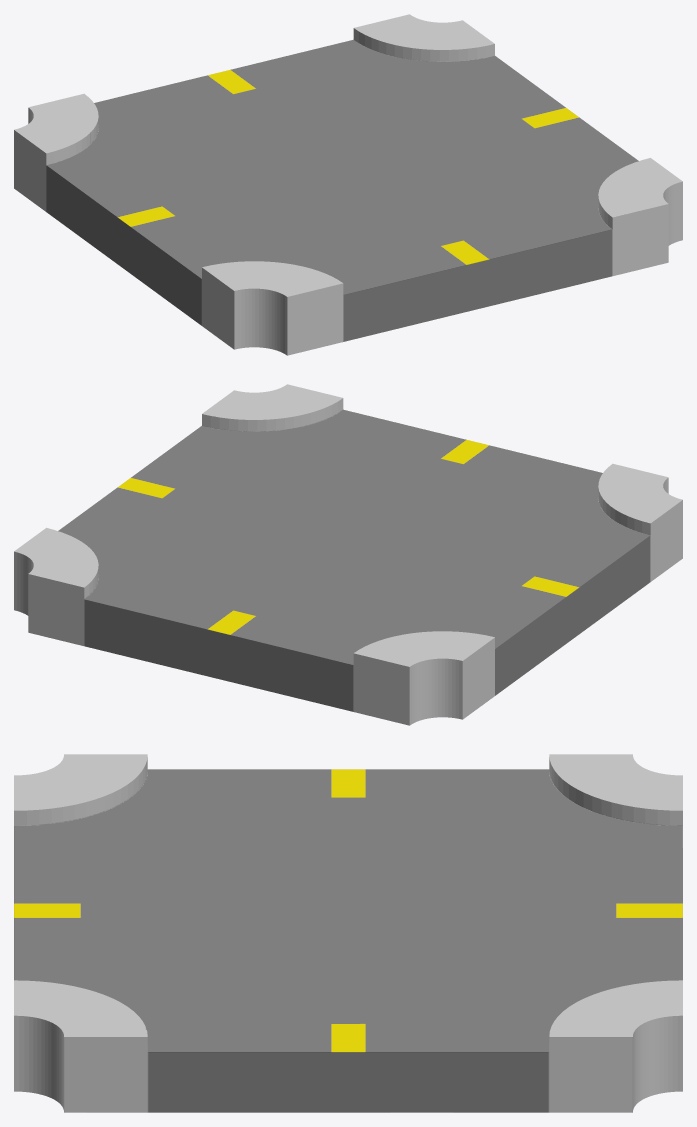
The model's file is road_4way.fbx.
3 renders of one model, top to bottom at view 1: azimuth 30°, elevation 25°; view 2: azimuth 150°, elevation 25°; view 3: azimuth 270°, elevation 25°, orthographic. The views are drawn at different scales.
Visible parts, largest first — view 1: Cube.007; view 2: Cube.007; view 3: Cube.007.
Part boxes in pixels (box(x1,y1,x2,y2)): Cube.007: box(14, 14, 682, 355); Cube.007: box(14, 384, 682, 725); Cube.007: box(14, 754, 682, 1112).
Bounding box in the file's own units: 200 × 25 × 200.
